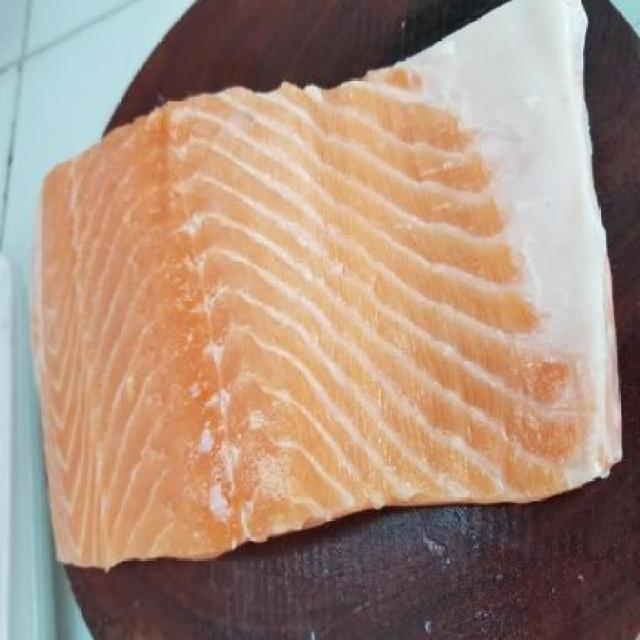salmon: (24, 6, 632, 577)
